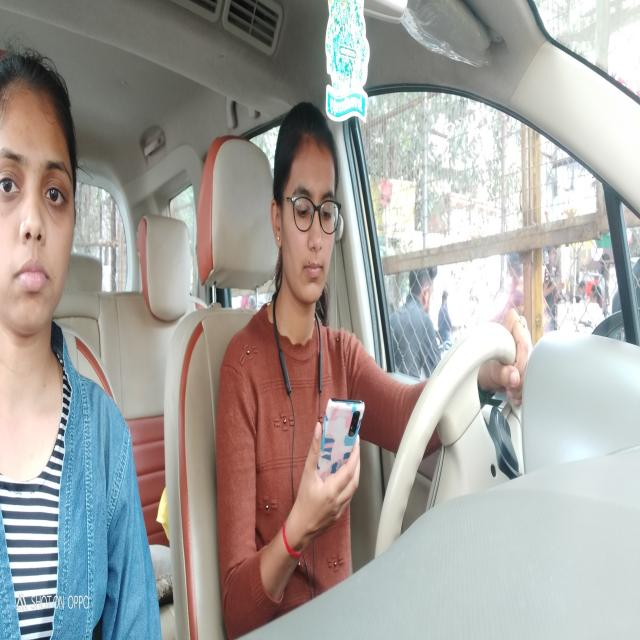mobile: (308, 386, 373, 520)
person: (1, 49, 90, 363), (272, 96, 348, 349)
